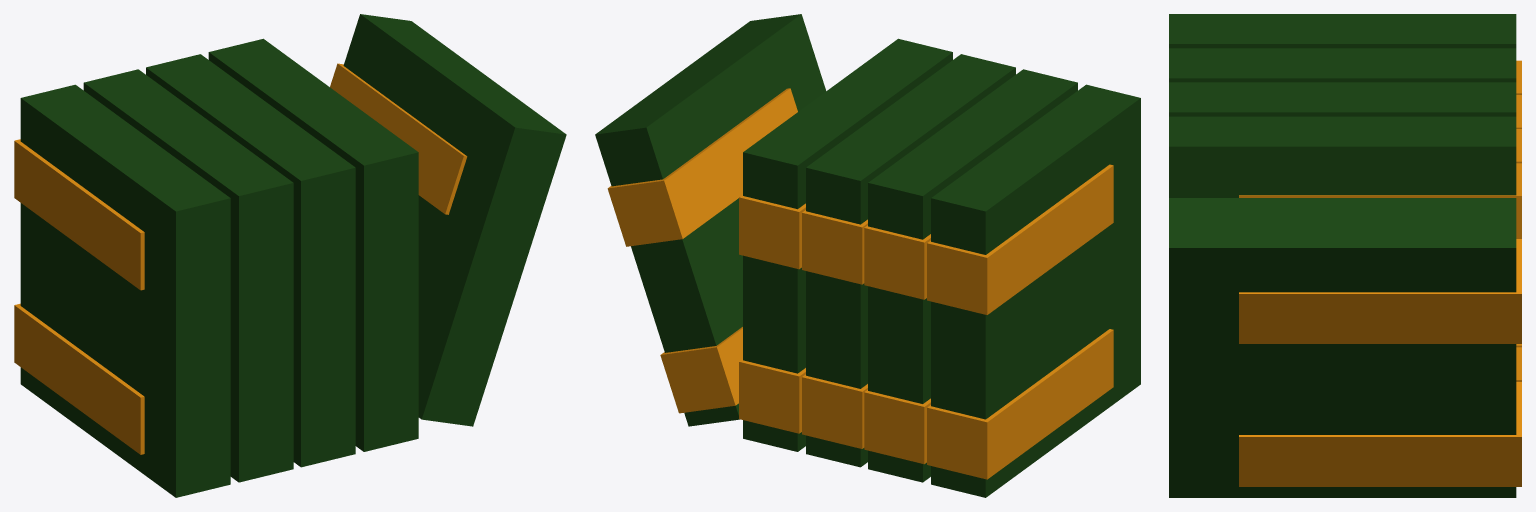
Rendered from Libros verdes.fbx.
3 views of the same model, side by side, from view 1: azimuth 30°, elevation 25°; view 2: azimuth 150°, elevation 25°; view 3: azimuth 270°, elevation 25° (orthographic). The views are drawn at different scales.
Visible parts, largest first — view 1: Cube, Cube.014, Cube.005, Cube.006, Cube.011, Cube.001, Cube.002, Cube.012; view 2: Cube, Cube.014, Cube.005, Cube.006, Cube.011, Cube.001, Cube.002, Cube.012, Cube.013, Cube.008, Cube.003, Cube.007 (+3 smaller); view 3: Cube.014, Cube.006, Cube.012, Cube.013, Cube.011, Cube, Cube.005, Cube.008.
Part boxes in pixels (bbox=[...]): Cube: bbox=[20, 84, 230, 497]; Cube.014: bbox=[343, 14, 566, 426]; Cube.005: bbox=[83, 69, 293, 482]; Cube.006: bbox=[208, 38, 418, 451]; Cube.011: bbox=[146, 54, 355, 467]; Cube.001: bbox=[14, 303, 144, 454]; Cube.002: bbox=[14, 139, 144, 290]; Cube.012: bbox=[330, 63, 467, 214]; Cube: bbox=[931, 84, 1140, 497]; Cube.014: bbox=[595, 14, 825, 426]; Cube.005: bbox=[868, 69, 1077, 482]; Cube.006: bbox=[743, 38, 952, 451]; Cube.011: bbox=[806, 54, 1015, 467]; Cube.001: bbox=[927, 329, 1113, 479]; Cube.002: bbox=[927, 164, 1113, 314]; Cube.012: bbox=[607, 88, 797, 246]; Cube.013: bbox=[660, 327, 742, 413]; Cube.008: bbox=[739, 195, 805, 269]; Cube.003: bbox=[864, 225, 930, 299]; Cube.007: bbox=[739, 359, 805, 433]; Cube.014: bbox=[1169, 198, 1516, 497]; Cube.006: bbox=[1169, 116, 1516, 197]; Cube.012: bbox=[1239, 239, 1521, 343]; Cube.013: bbox=[1239, 382, 1521, 486]; Cube.011: bbox=[1169, 82, 1516, 116]; Cube: bbox=[1169, 14, 1516, 48]; Cube.005: bbox=[1169, 48, 1516, 82]; Cube.008: bbox=[1239, 163, 1521, 238].
Bounding box in the file's own units: 1442 × 1008 × 998.
